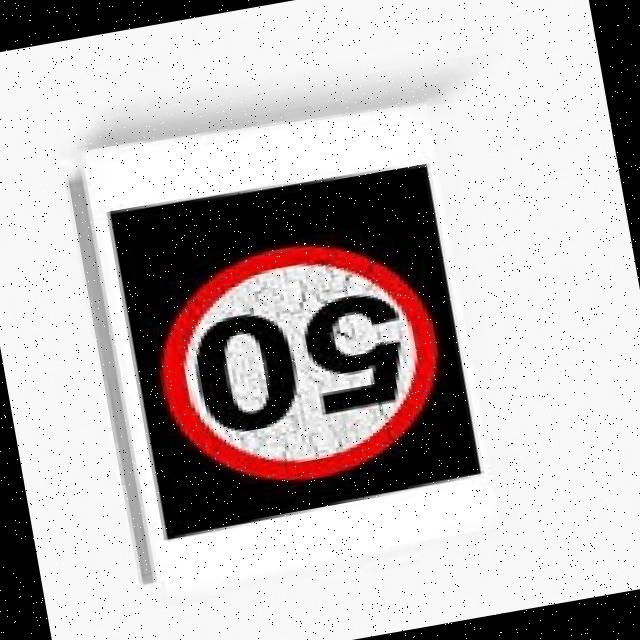speed_limit_50: (136, 216, 468, 509)
